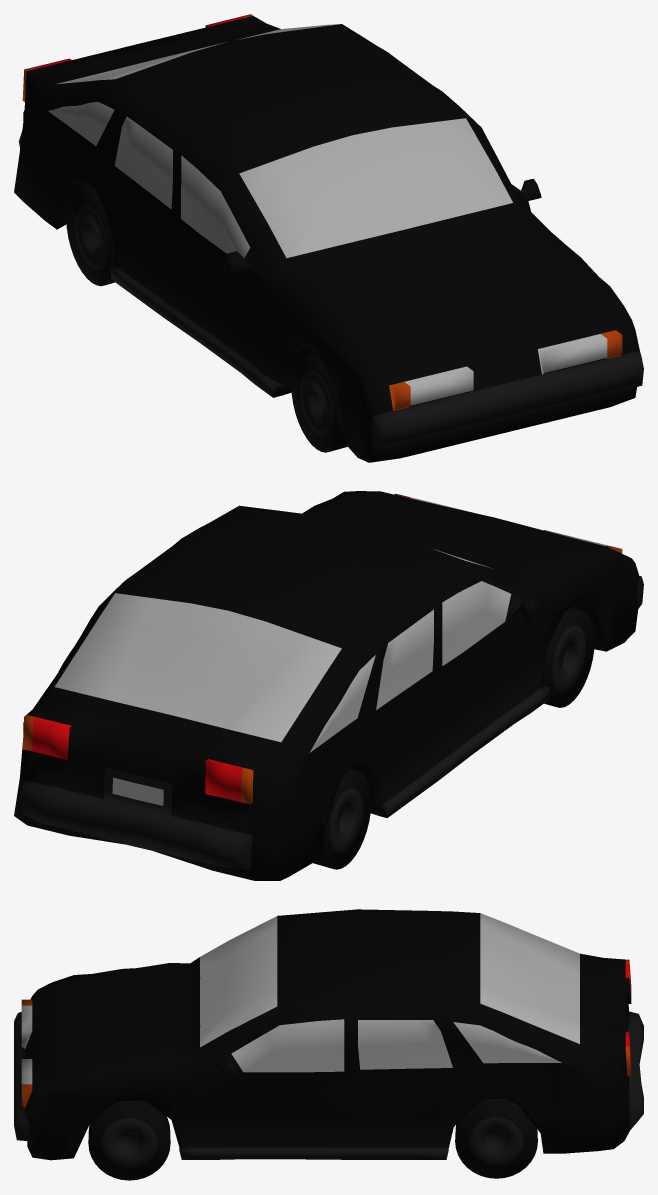
File: car.obj
3 renders of one model, top to bottom at view 1: azimuth 30°, elevation 25°; view 2: azimuth 150°, elevation 25°; view 3: azimuth 270°, elevation 25°, orthographic. The views are drawn at different scales.
Parts seen in each view (by area): view 1: Cube_Cube.001; view 2: Cube_Cube.001; view 3: Cube_Cube.001.
Part boxes in pixels (x1,y1,x2,y2): Cube_Cube.001: (14,14,643,462); Cube_Cube.001: (14,491,643,880); Cube_Cube.001: (14,909,643,1180).
Size of the model in its own units: 3.69 by 2.53 by 7.92.
